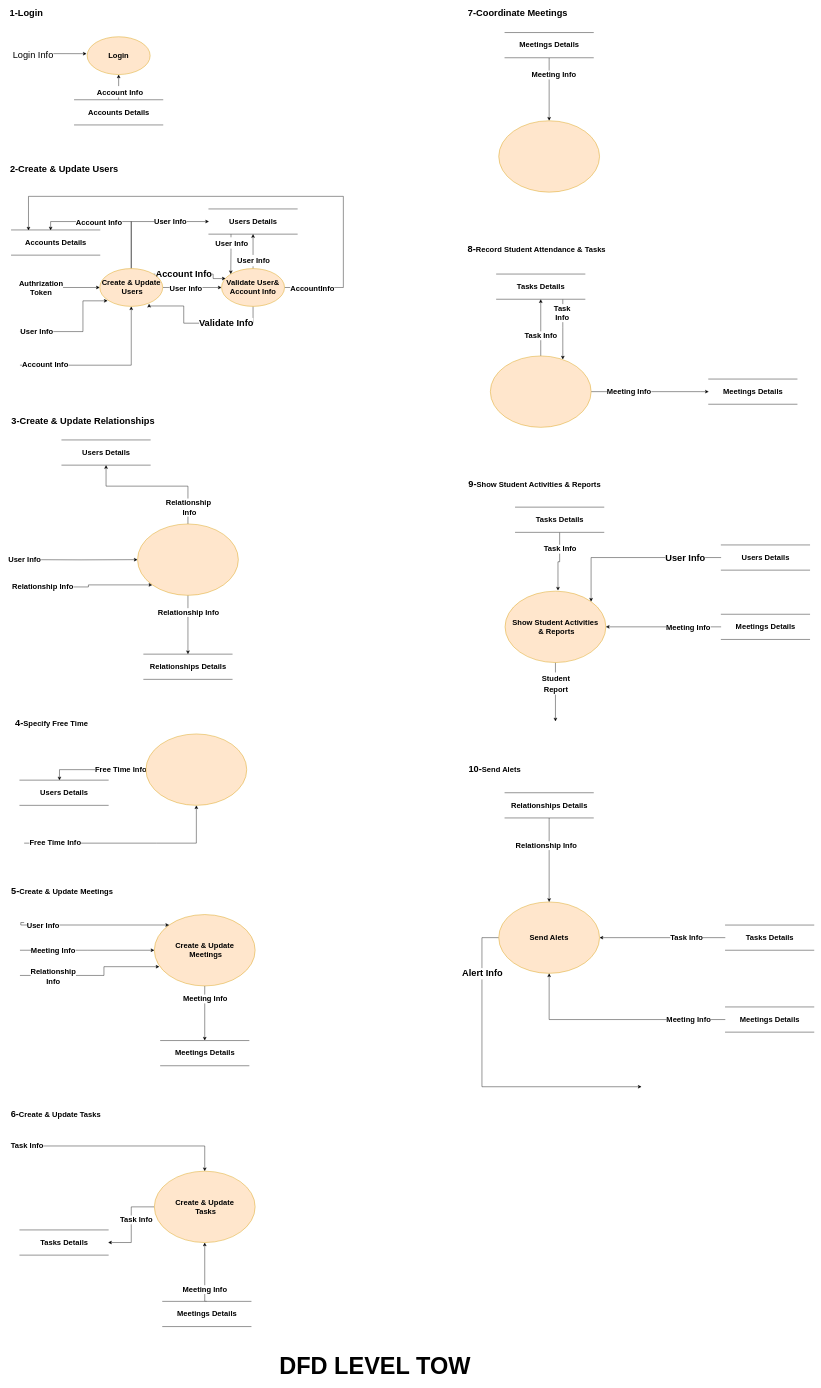
Some shapes in this 821 by 1388 pixel diagram are drawn without their labels. Here are the shapes that lost their labels. From the top down, the centre of each, then its label:
At [549,156]: "Coordinate Meetings".
At [540,391]: "Record Student Attendance & Tasks".
At [187,559]: "Create & Update Relationship".
At [196,769]: "Specify Free Time".
